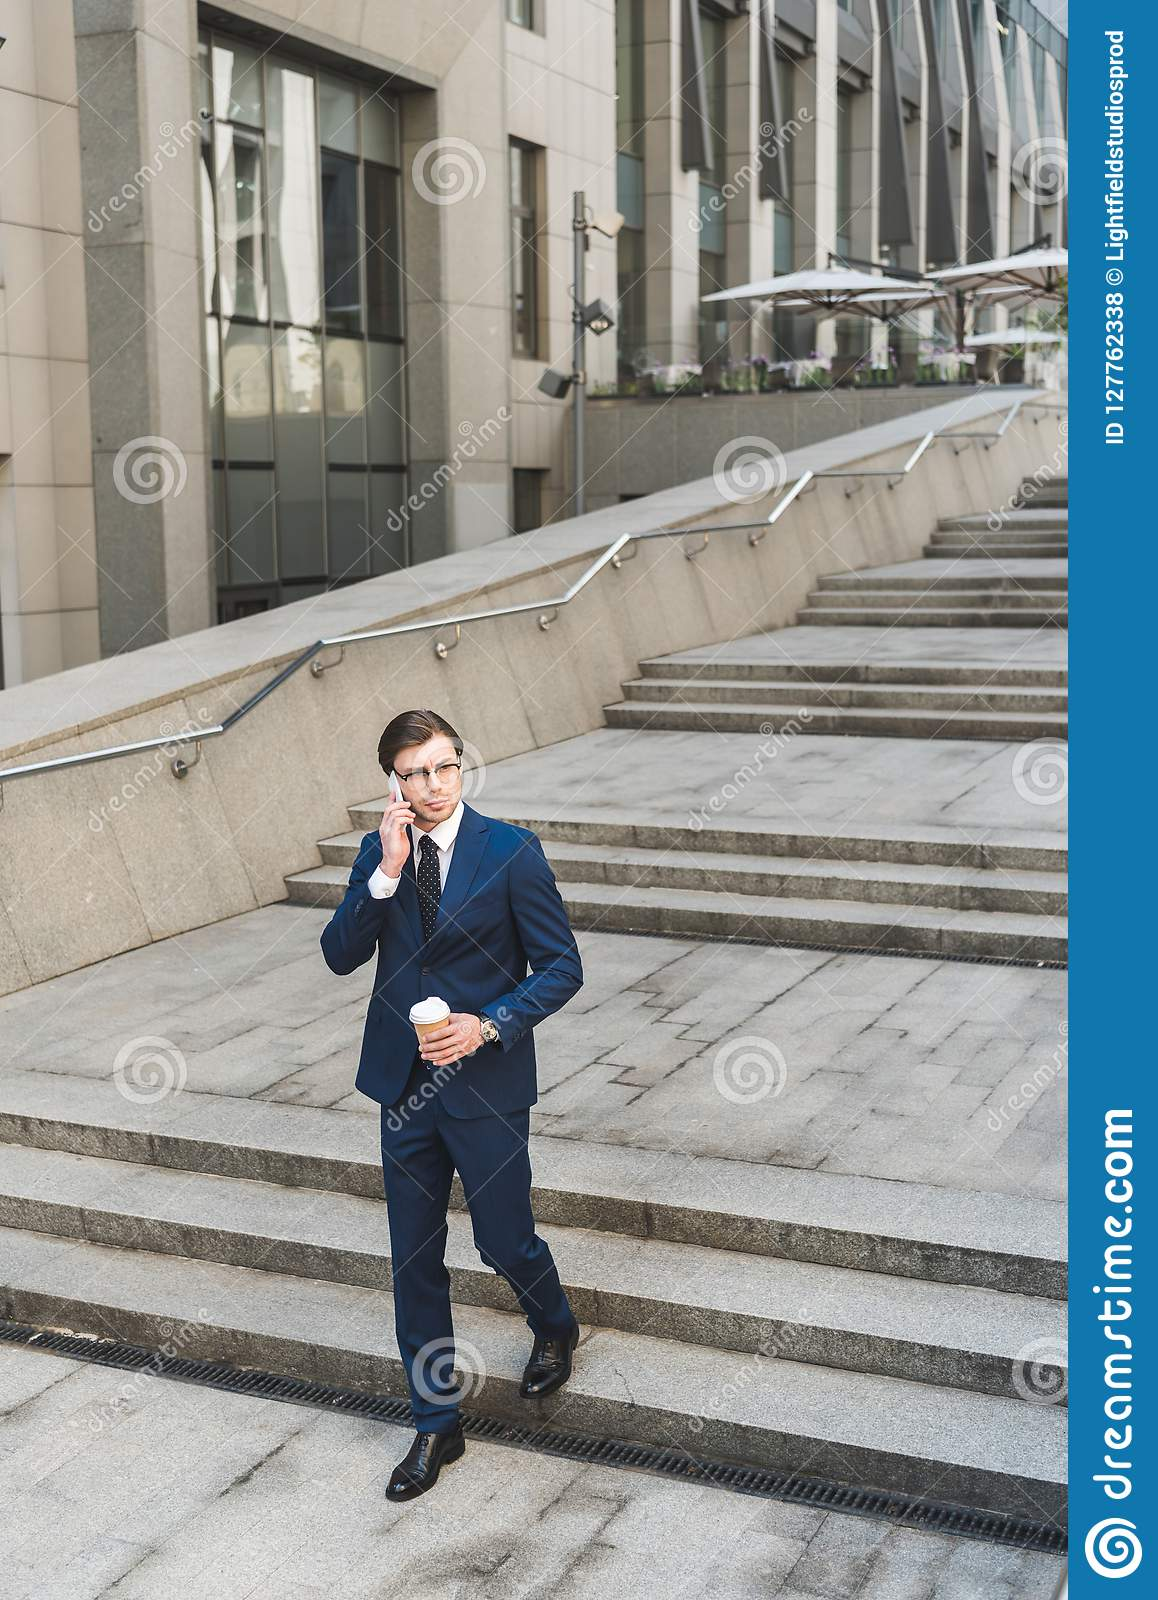phone: (384, 766, 409, 835)
talk: (379, 750, 465, 871)
